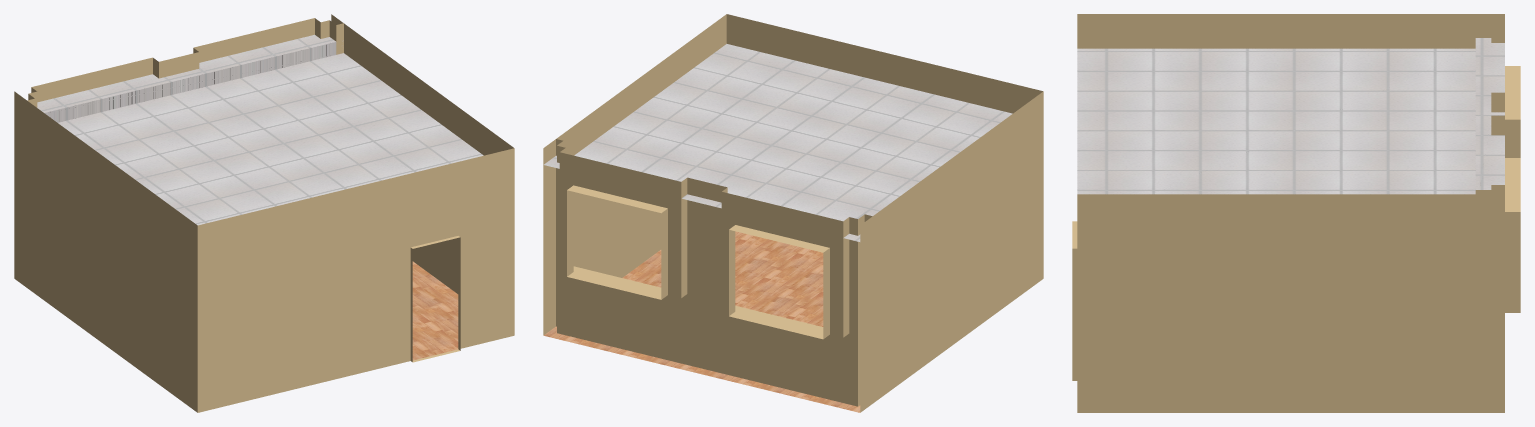
Rendered from room2.glb.
The picture shows the model from 3 angles, left to right: view 1: azimuth 30°, elevation 25°; view 2: azimuth 150°, elevation 25°; view 3: azimuth 270°, elevation 25°; orthographic projection. The views are drawn at different scales.
Visible parts, largest first — view 1: 4et.002; view 2: 4et.002; view 3: 4et.002.
Part boxes in pixels (<box>): 4et.002: <box>14,14,514,412</box>; 4et.002: <box>543,14,1043,412</box>; 4et.002: <box>1072,14,1520,412</box>.
Size of the model in its own units: 5.84 by 3.3 by 6.13.
3 materials, 2 textured.
